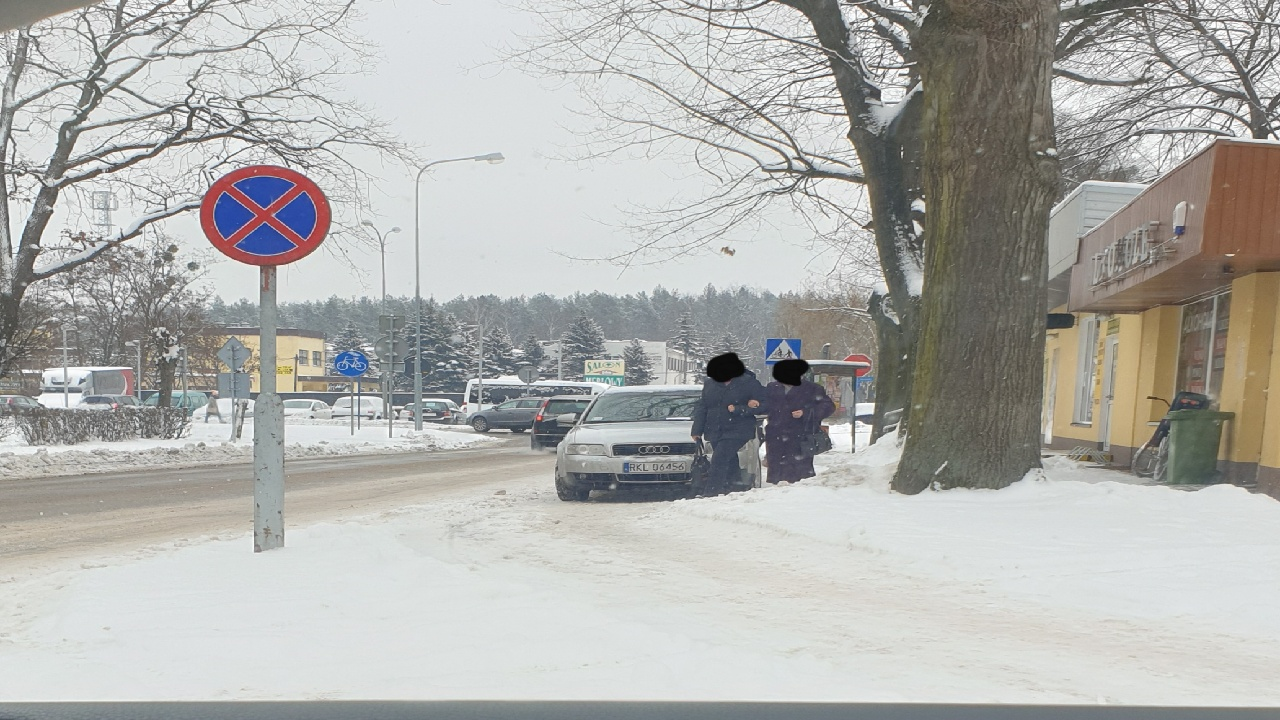B35: (191, 159, 340, 262)
